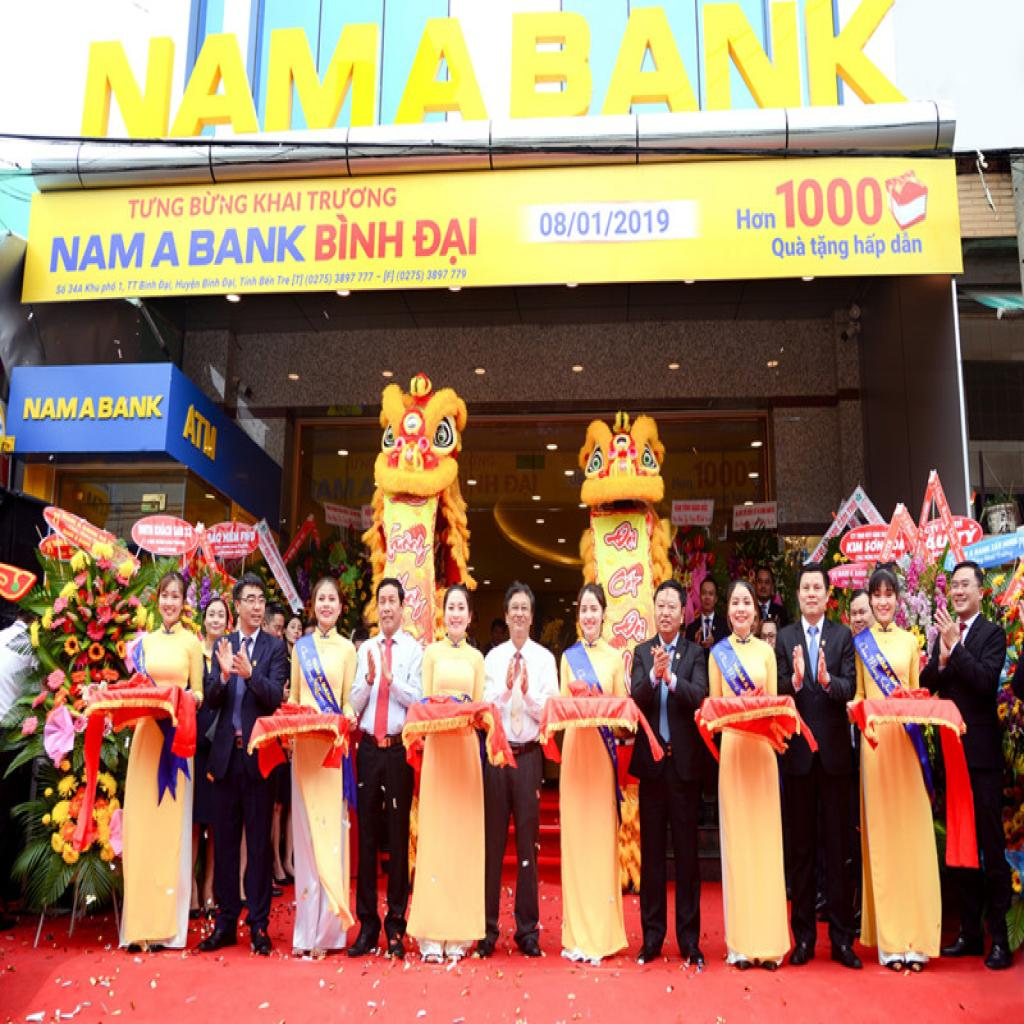text: (504, 0, 914, 127), (74, 20, 380, 152), (386, 7, 500, 136), (773, 172, 888, 233), (186, 220, 308, 270), (540, 204, 675, 244), (314, 213, 408, 269), (48, 228, 148, 278), (411, 211, 481, 267), (308, 180, 400, 216), (178, 400, 220, 466), (98, 390, 166, 424), (186, 186, 250, 220), (692, 456, 752, 490), (126, 188, 186, 220), (610, 605, 652, 646), (254, 186, 304, 218), (602, 516, 642, 556), (23, 394, 79, 422), (394, 265, 468, 286), (304, 269, 376, 290), (808, 231, 852, 265), (606, 564, 645, 601), (148, 228, 182, 270), (852, 231, 890, 265), (891, 228, 929, 262), (734, 206, 778, 234), (769, 233, 809, 263), (316, 476, 357, 505), (504, 471, 542, 499), (462, 471, 501, 498), (956, 521, 979, 548), (724, 668, 744, 696), (866, 653, 884, 684), (78, 394, 97, 422), (357, 476, 376, 503), (174, 276, 202, 294), (924, 532, 950, 551), (671, 474, 696, 492), (731, 660, 749, 684), (304, 659, 318, 687), (99, 279, 119, 297), (154, 521, 174, 539), (858, 637, 873, 661), (222, 525, 240, 544), (138, 278, 159, 294), (158, 276, 176, 294), (258, 272, 276, 290), (876, 650, 890, 673), (201, 276, 221, 292), (837, 508, 851, 530), (864, 539, 886, 553), (717, 650, 731, 671), (240, 274, 258, 290), (290, 272, 306, 290), (207, 528, 223, 546), (845, 496, 860, 515), (383, 267, 397, 286), (845, 541, 864, 555), (222, 276, 238, 292), (276, 274, 292, 290), (975, 542, 991, 558), (84, 281, 102, 295), (298, 645, 311, 664), (311, 657, 323, 677), (924, 523, 941, 537), (55, 283, 69, 299), (68, 281, 84, 295), (126, 277, 140, 292), (990, 539, 1004, 553), (119, 280, 127, 296), (837, 570, 851, 578), (742, 680, 752, 690), (885, 668, 892, 680), (318, 675, 325, 686), (970, 548, 976, 558), (376, 274, 383, 281), (851, 568, 855, 578)
